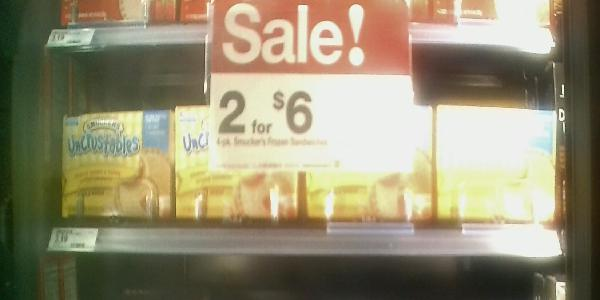icecream: (302, 102, 437, 234), (434, 100, 563, 233), (172, 105, 304, 234), (61, 112, 175, 227)
